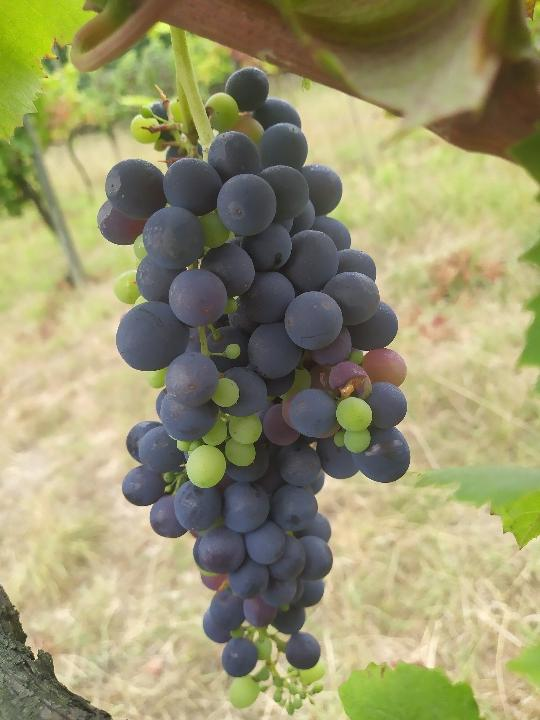grape: (96, 65, 411, 718)
